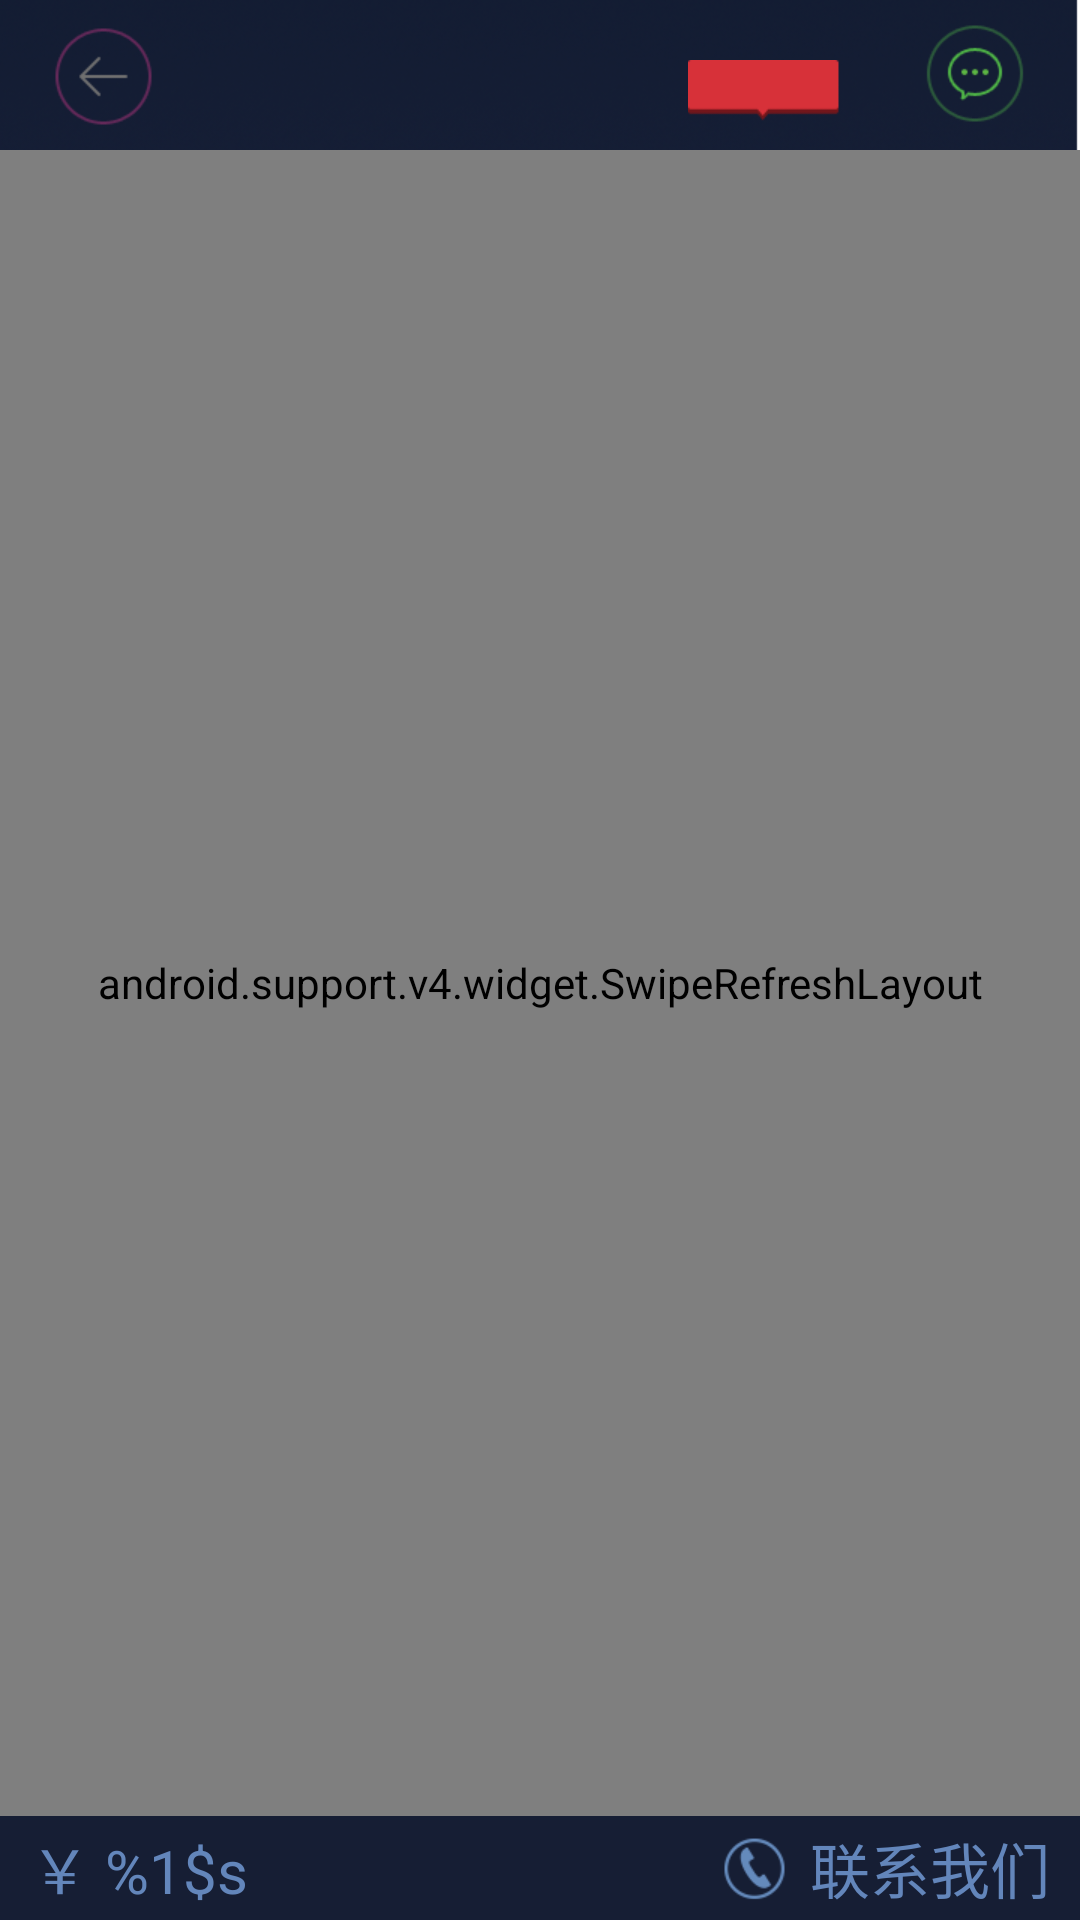

Locate icon controls on the screen. Image size 1080 × 1920, boxes as bbox(x1, y1, x2, y2).
back: bbox(55, 28, 152, 125)
call telephone: bbox(724, 1838, 785, 1899)
